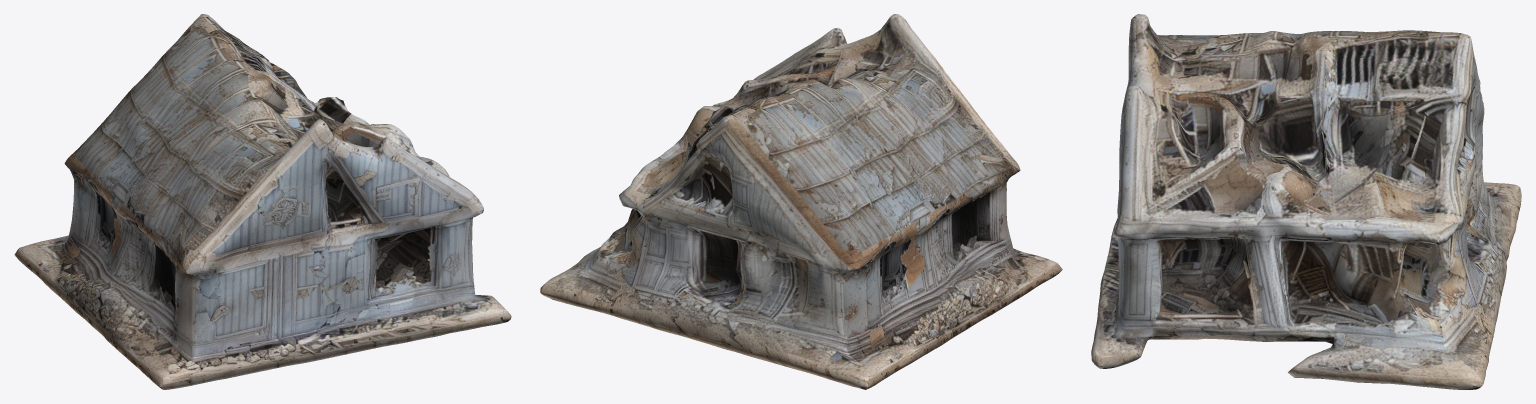
File: Destroyed_house_0328052256_refine.fbx
3 views of the same model, side by side, from view 1: azimuth 30°, elevation 25°; view 2: azimuth 150°, elevation 25°; view 3: azimuth 270°, elevation 25° (orthographic). The views are drawn at different scales.
Visible parts, largest first — view 1: Mesh_0; view 2: Mesh_0; view 3: Mesh_0.
Part boxes in pixels (box(x1,y1,x2,y2)): Mesh_0: box(14, 14, 511, 389); Mesh_0: box(540, 14, 1062, 389); Mesh_0: box(1091, 14, 1521, 389).
Size of the model in its own units: 120 by 73.36 by 104.
Materials: 1 (1 with a texture image).
